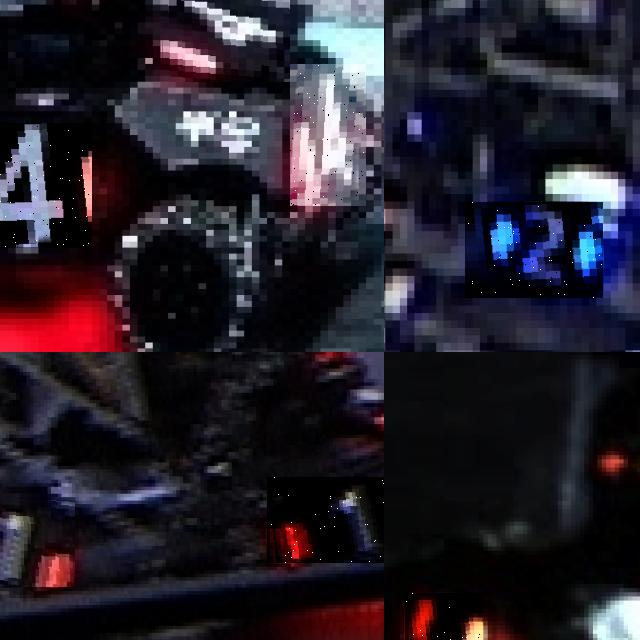B2: (466, 202, 604, 298)
R1: (266, 476, 384, 563), (0, 493, 75, 587)
R4: (0, 123, 92, 247), (290, 64, 366, 206), (160, 0, 289, 81)
Rs: (404, 592, 483, 640)
